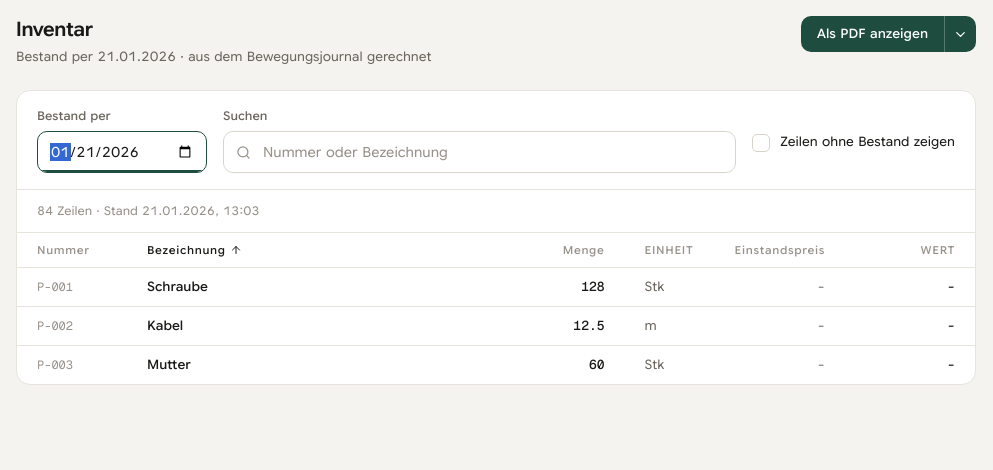
Test: StockAsOfPage › stockAsOfPageSaysWhenThePdfFailedTest
Click the button "Als PDF anzeigen": {"x": 872, "y": 34} [801,16,944,52]
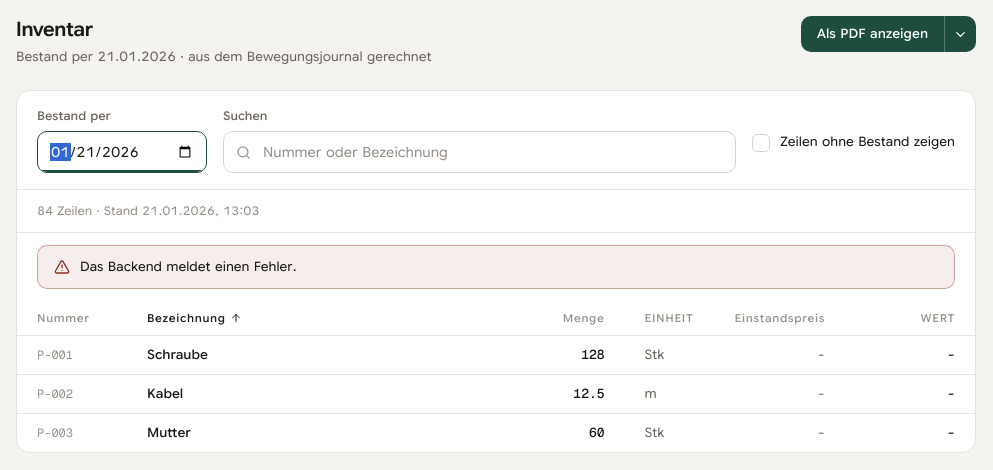
expect the message "Das Backend meldet einen Fehler." is shown: met, box [37,245,955,289]
